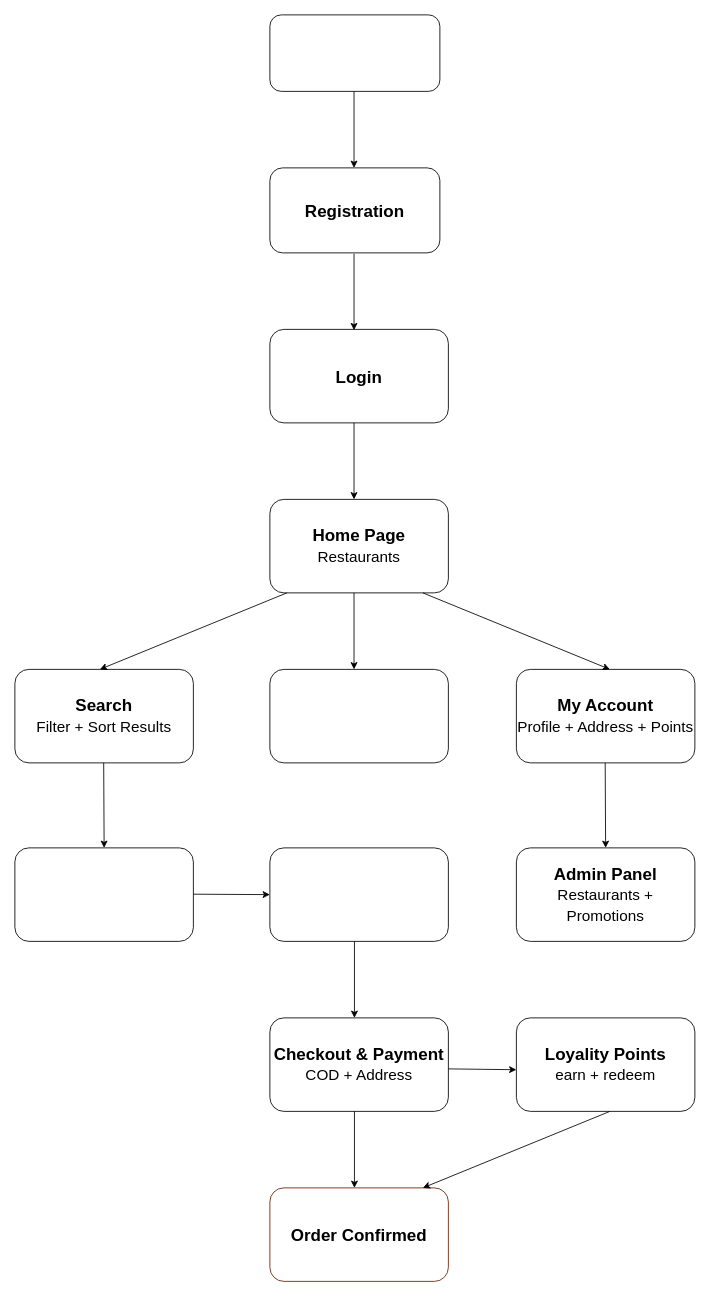
Some shapes in this 710 by 1296 pixel diagram are drawn without their labels. Each missing label, with the box of its shape:
Cart: (269, 847, 448, 941)
Offers & Promotions Discounts: (269, 669, 448, 763)
Restaurant Page Menu + Delivery Time + Rating: (14, 847, 193, 941)
User: (269, 14, 440, 91)
